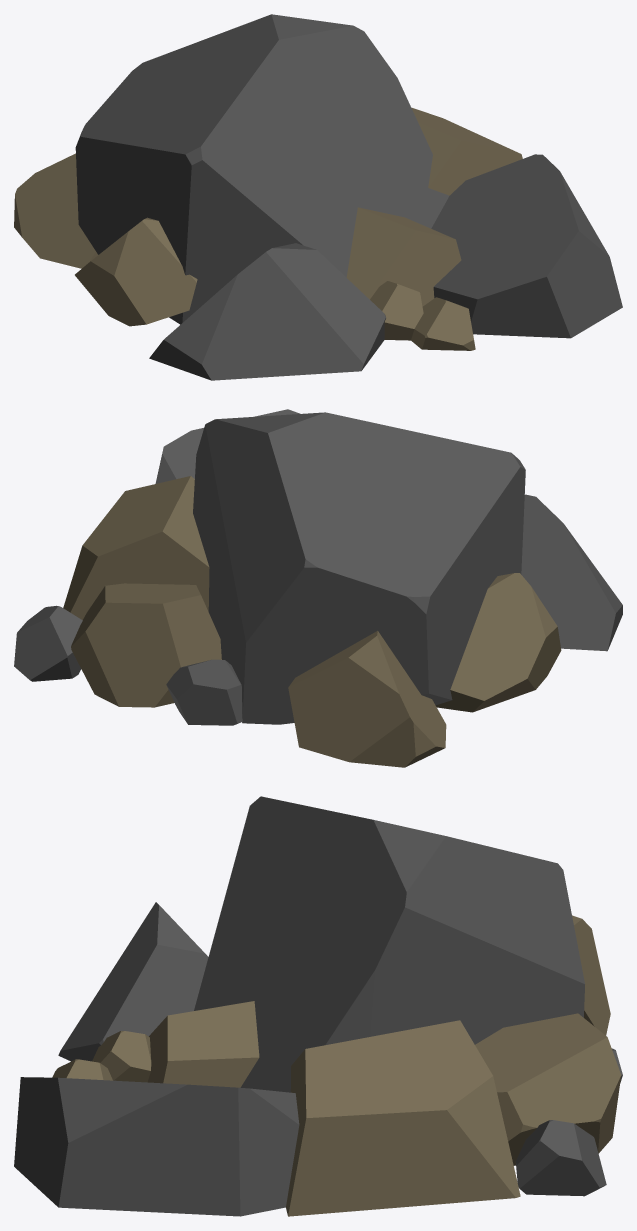
The model's file is rocks.fbx.
The picture shows the model from 3 angles, top to bottom: view 1: azimuth 30°, elevation 25°; view 2: azimuth 150°, elevation 25°; view 3: azimuth 270°, elevation 25°; orthographic projection. The views are drawn at different scales.
Parts seen in each view (by area): view 1: Sphere, Sphere.004, Sphere.003, Sphere.007, Sphere.001, Sphere.011, Sphere.002, Sphere.005, Sphere.006; view 2: Sphere, Sphere.011, Sphere.008, Sphere.002, Sphere.007, Sphere.003, Sphere.010, Sphere.009, Sphere.004; view 3: Sphere, Sphere.002, Sphere.004, Sphere.008, Sphere.003, Sphere.001, Sphere.009, Sphere.006, Sphere.011, Sphere.005.
Part boxes in pixels (x1=…): Sphere: x1=75, y1=14, x2=449, y2=324; Sphere.004: x1=431, y1=154, x2=622, y2=338; Sphere.003: x1=149, y1=243, x2=385, y2=380; Sphere.007: x1=75, y1=217, x2=197, y2=326; Sphere.001: x1=346, y1=207, x2=461, y2=306; Sphere.011: x1=14, y1=153, x2=97, y2=268; Sphere.002: x1=411, y1=107, x2=522, y2=195; Sphere.005: x1=411, y1=297, x2=475, y2=350; Sphere.006: x1=370, y1=281, x2=423, y2=340; Sphere: x1=193, y1=412, x2=525, y2=724; Sphere.011: x1=288, y1=631, x2=446, y2=767; Sphere.008: x1=71, y1=583, x2=221, y2=707; Sphere.002: x1=63, y1=476, x2=209, y2=619; Sphere.007: x1=435, y1=573, x2=561, y2=712; Sphere.003: x1=521, y1=494, x2=622, y2=651; Sphere.010: x1=166, y1=659, x2=242, y2=725; Sphere.009: x1=14, y1=605, x2=82, y2=681; Sphere.004: x1=155, y1=409, x2=300, y2=483; Sphere: x1=194, y1=796, x2=584, y2=1092; Sphere.002: x1=286, y1=1020, x2=520, y2=1216; Sphere.004: x1=14, y1=1077, x2=299, y2=1216; Sphere.008: x1=475, y1=1013, x2=621, y2=1165; Sphere.003: x1=58, y1=902, x2=208, y2=1061; Sphere.001: x1=147, y1=1001, x2=259, y2=1087; Sphere.009: x1=515, y1=1120, x2=606, y2=1196; Sphere.006: x1=92, y1=1031, x2=151, y2=1082; Sphere.011: x1=572, y1=915, x2=610, y2=1035; Sphere.005: x1=52, y1=1059, x2=112, y2=1080.
Bounding box in the file's own units: 182 × 91.44 × 191.
